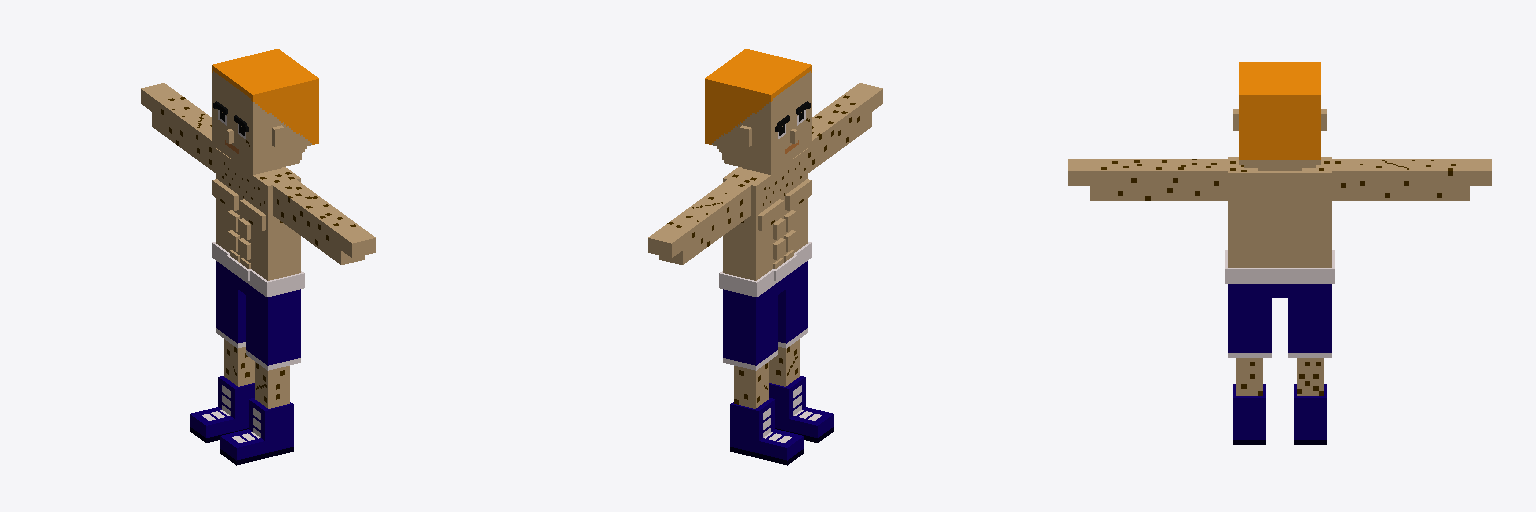
The picture shows the model from 3 angles: view 1: azimuth 30°, elevation 25°; view 2: azimuth 150°, elevation 25°; view 3: azimuth 270°, elevation 25°; orthographic projection.
Parts seen in each view (by area): view 1: object 1; view 2: object 1; view 3: object 1.
Boxes of the visible parts, x1,y1,x2,y2 form: object 1: [141, 49, 375, 465]; object 1: [648, 49, 882, 465]; object 1: [1068, 62, 1491, 444].
Size of the model in its own units: 3.6 by 14.6 by 15.4.
1 materials, 1 textured.